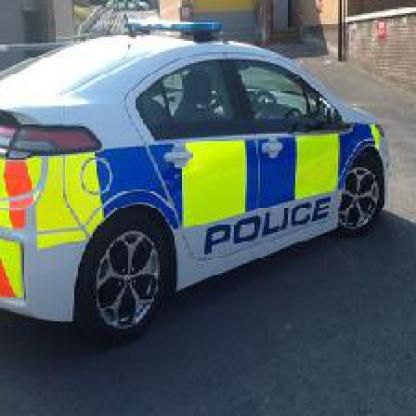emergency: (6, 19, 396, 336)
